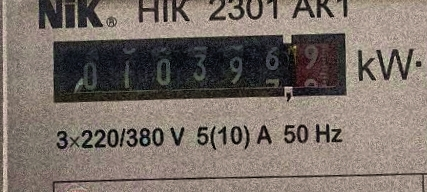0: (151, 54, 174, 88), (78, 58, 99, 91)
1: (119, 56, 133, 89)
3: (190, 50, 209, 84)
6: (260, 43, 283, 73)
9: (298, 42, 321, 73), (224, 53, 245, 86)
screen: (35, 14, 358, 123)
